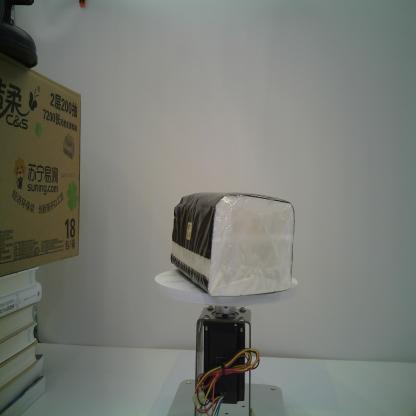Tissue: (170, 191, 295, 298)
